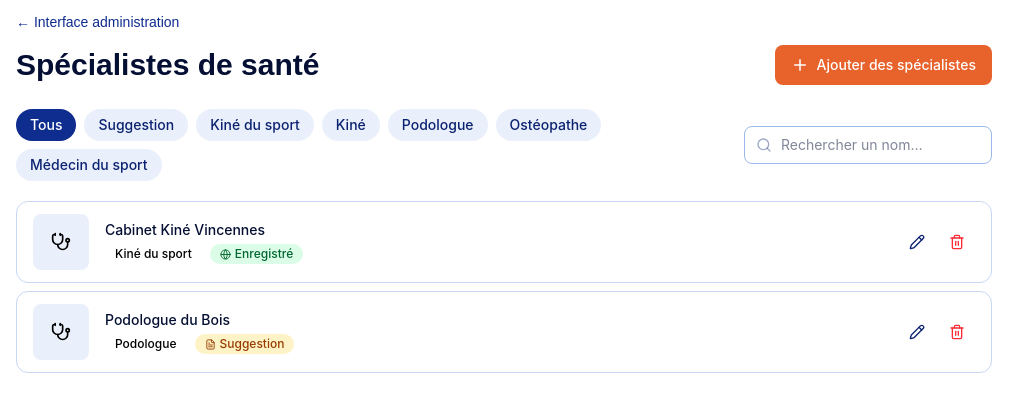
Test: GestionSpecialistes › affiche l'état vide quand rien ne correspond
The width and height of the screenshot is (1009, 404).
Check: the text "Cabinet Kiné Vincennes" is shown, box [105, 221, 265, 238]
Click the button "Ostéopathe". click: click(548, 125)
box: [496, 109, 601, 141]
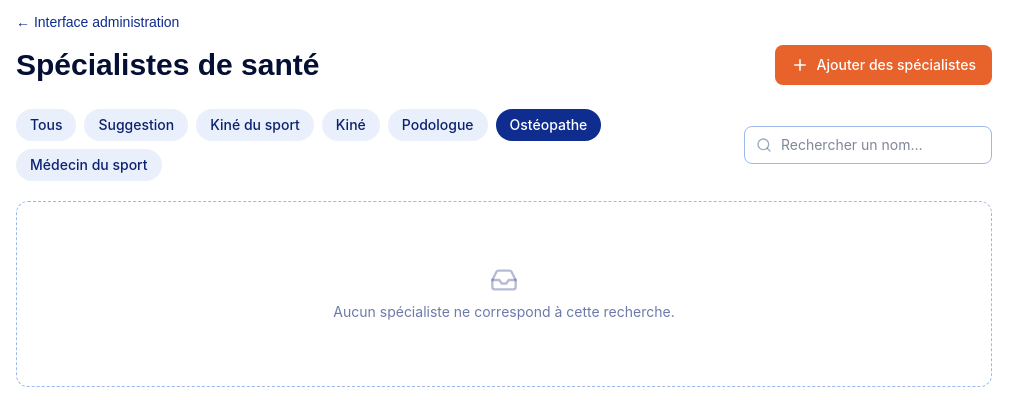
Check: the text "Aucun spécialiste ne correspond à cette recherche." is shown, box [333, 302, 675, 322]
